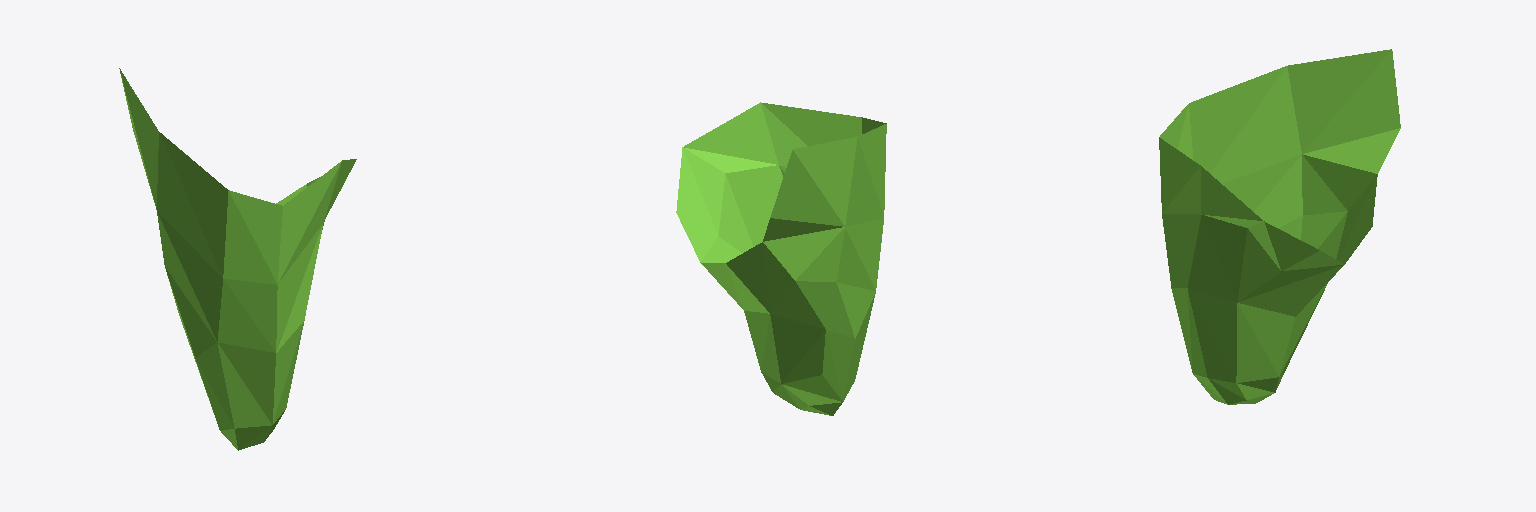
The model's file is Stalagmite_Fragment1.obj.
The picture shows the model from 3 angles: view 1: azimuth 30°, elevation 25°; view 2: azimuth 150°, elevation 25°; view 3: azimuth 270°, elevation 25°; orthographic projection.
Visible parts, largest first — view 1: Stalagmite_Fragment1; view 2: Stalagmite_Fragment1; view 3: Stalagmite_Fragment1.
Boxes of the visible parts, x1,y1,x2,y2 form: Stalagmite_Fragment1: [119, 68, 356, 450]; Stalagmite_Fragment1: [676, 102, 886, 415]; Stalagmite_Fragment1: [1159, 49, 1400, 404].
Size of the model in its own units: 1.06 by 1.82 by 1.19.